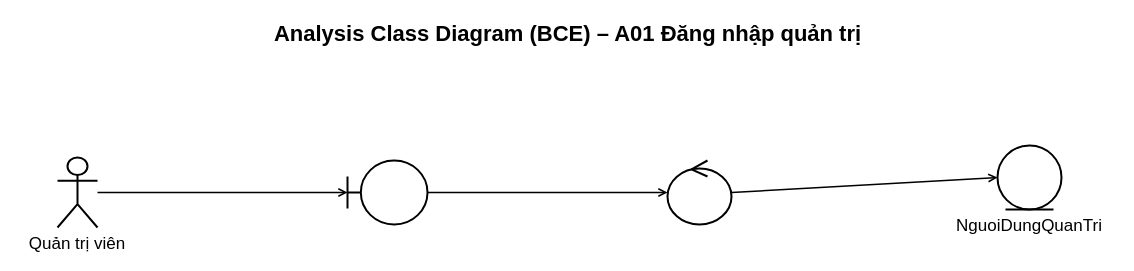
This 1134x271 diagram has some shape labels left out. The centre of each missing label's shape, as x and y in pixels:
"DangNhapQuanTriController" belongs at (699,192).
"DangNhapQuanTriPage" belongs at (387,192).
